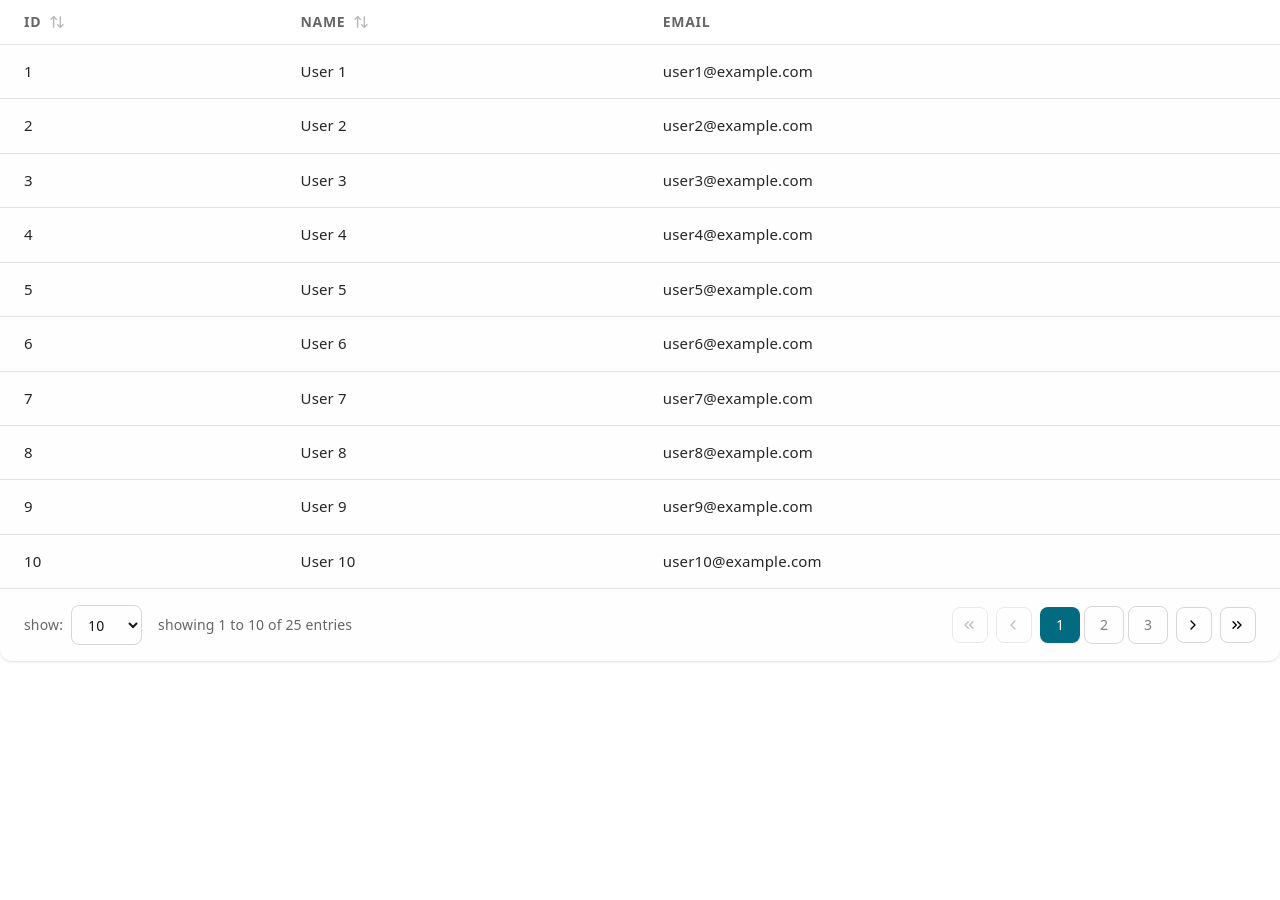
DataTable Component › changes page when pagination button is clicked
The image size is (1280, 900).
# Click next page button
What coordinates should you click on to do the following:
click the button titled "next_page"
I would click on:
 (1194, 625)
Its box is x1=1176 y1=607 x2=1212 y2=643.
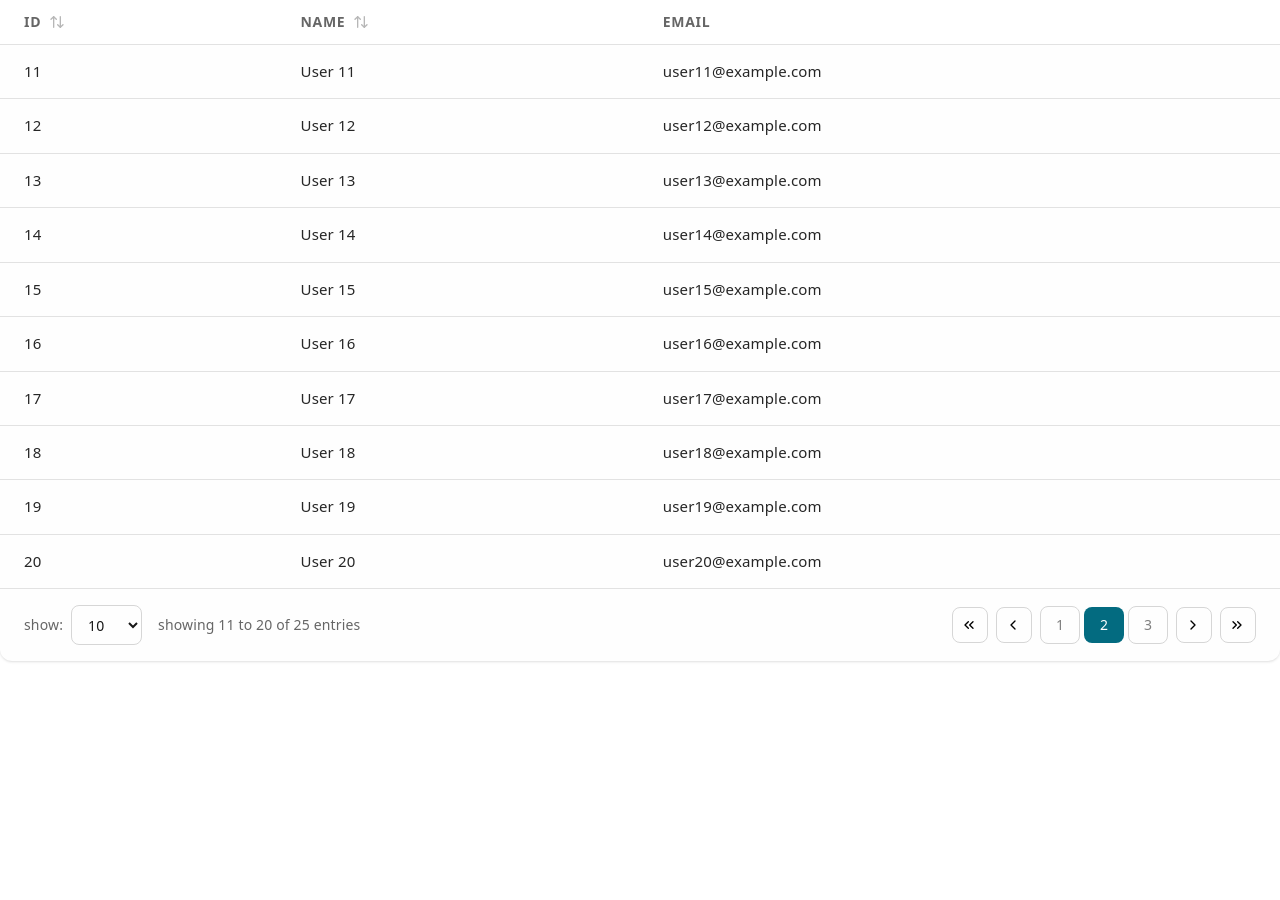
Now the text "User 11" is shown, box x1=276 y1=44 x2=639 y2=99
